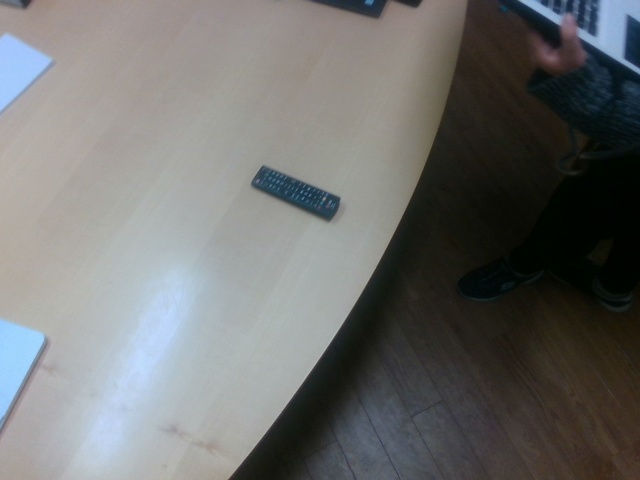remote: (251, 164, 341, 221)
